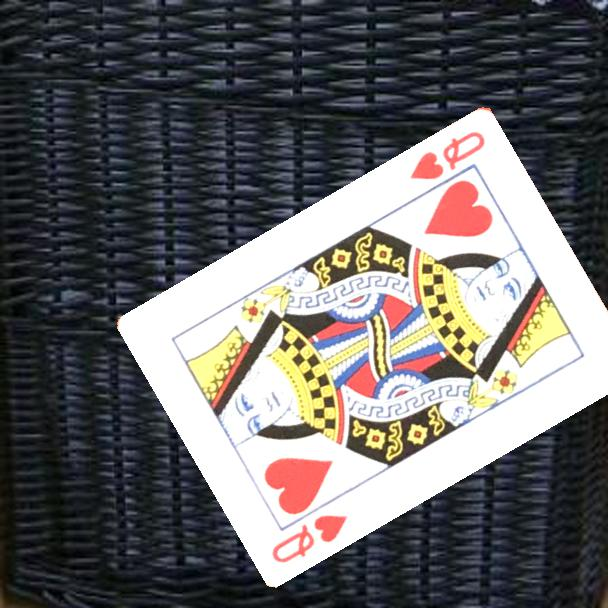h12: (406, 127, 489, 183), (268, 510, 351, 566)
